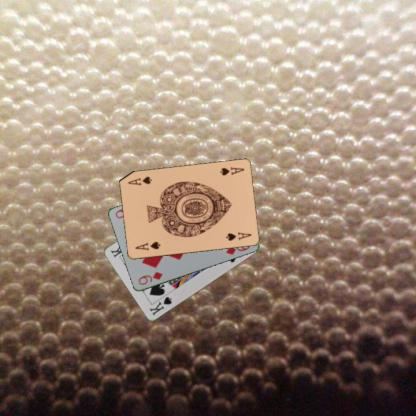9d: (136, 269, 163, 287)
As: (132, 239, 162, 252), (217, 164, 246, 177)
Ks: (147, 294, 173, 317)
